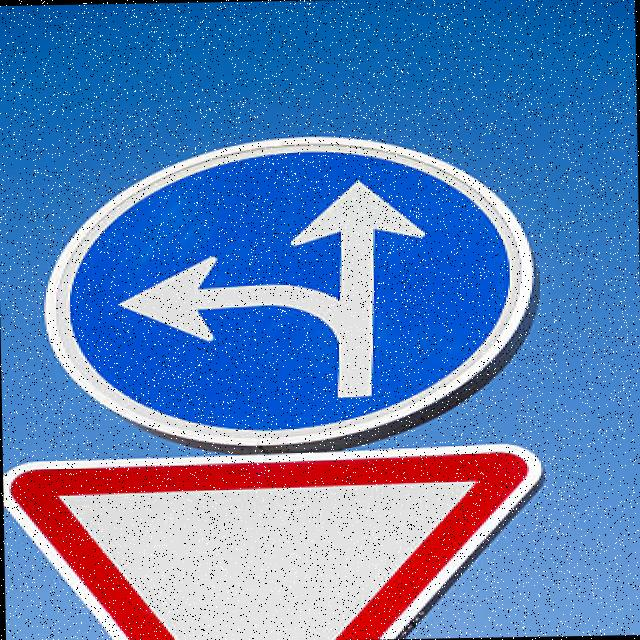give_way: (2, 425, 572, 640)
